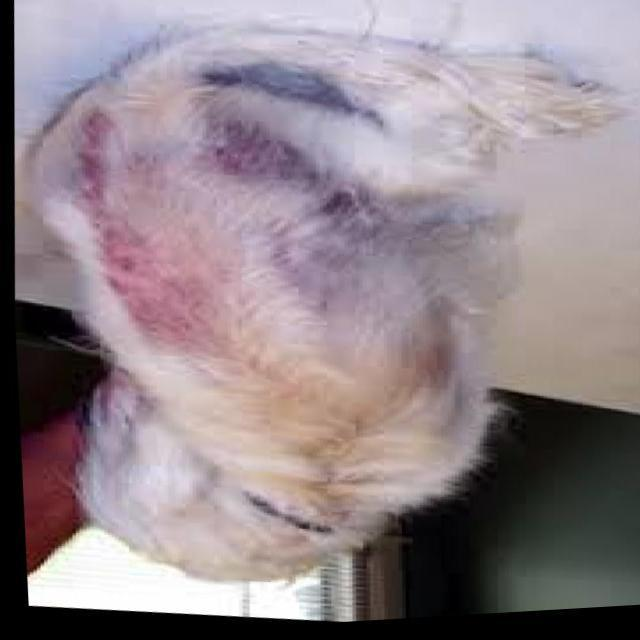allergic dermatitis: (69, 113, 211, 375), (224, 124, 390, 328)
